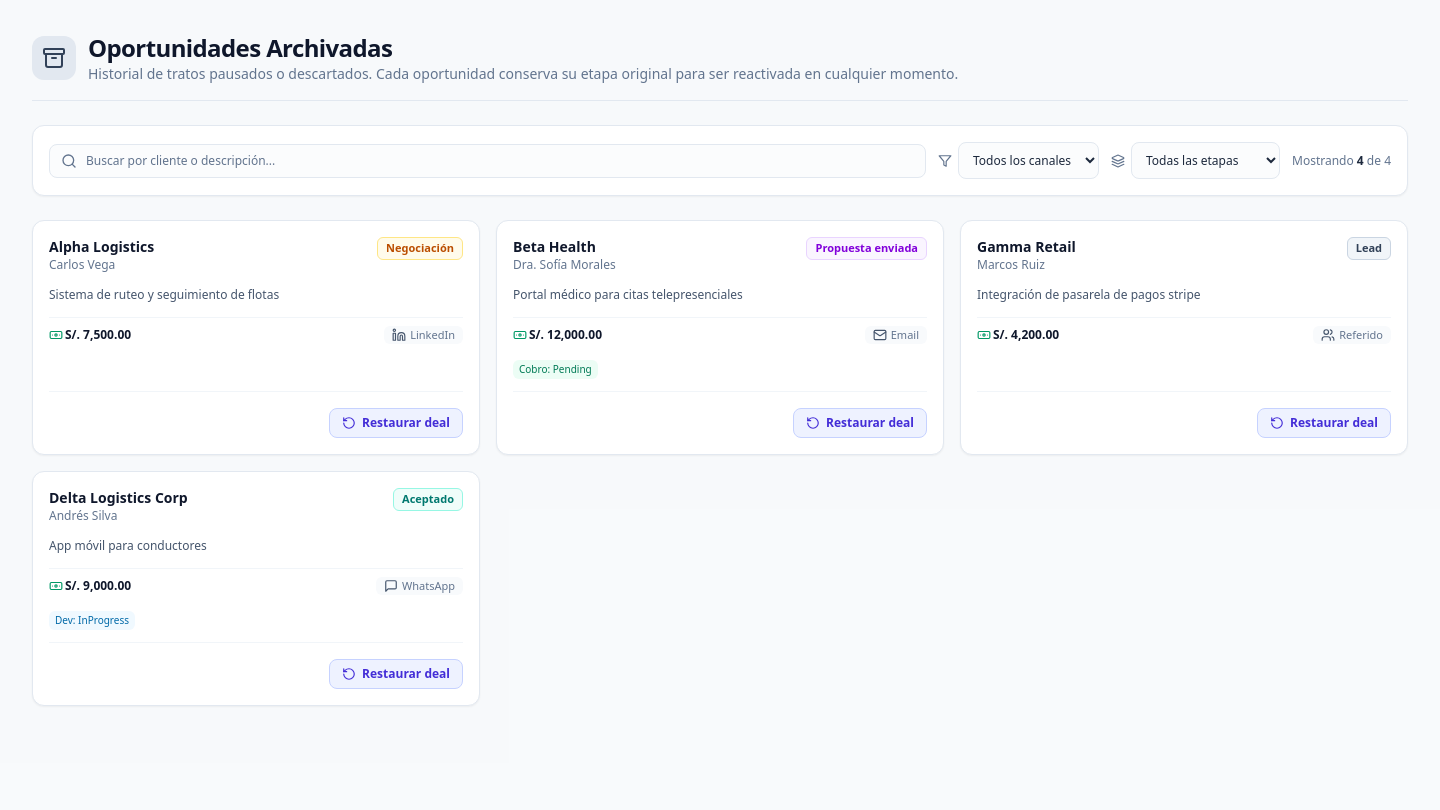
Test case: Vista de Oportunidades Archivadas (/archive) › 3. Filtros y Búsqueda › permite limpiar todos los filtros aplicados
The image size is (1440, 810).
Type "Beta" into the field with placeholder "Buscar por cliente o descripción...".
click(488, 160); type("Beta")  # box [49,144,926,178]
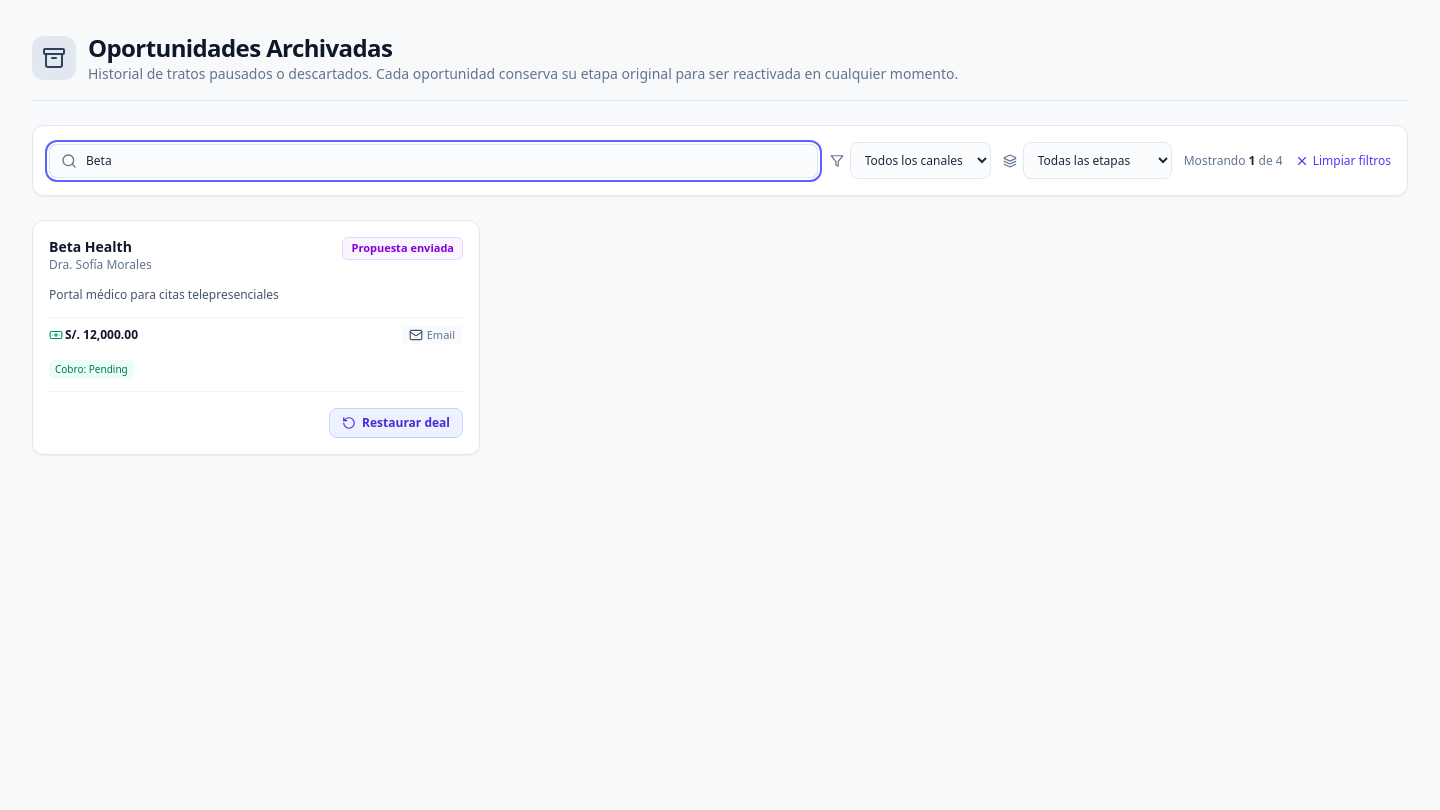
Expected: the heading "Beta Health" is shown, [49,237,132,256]
Expected: the heading "Alpha Logistics" is gone
Click the button "Limpiar filtros".
click(1343, 160)  # box [1295,152,1391,168]
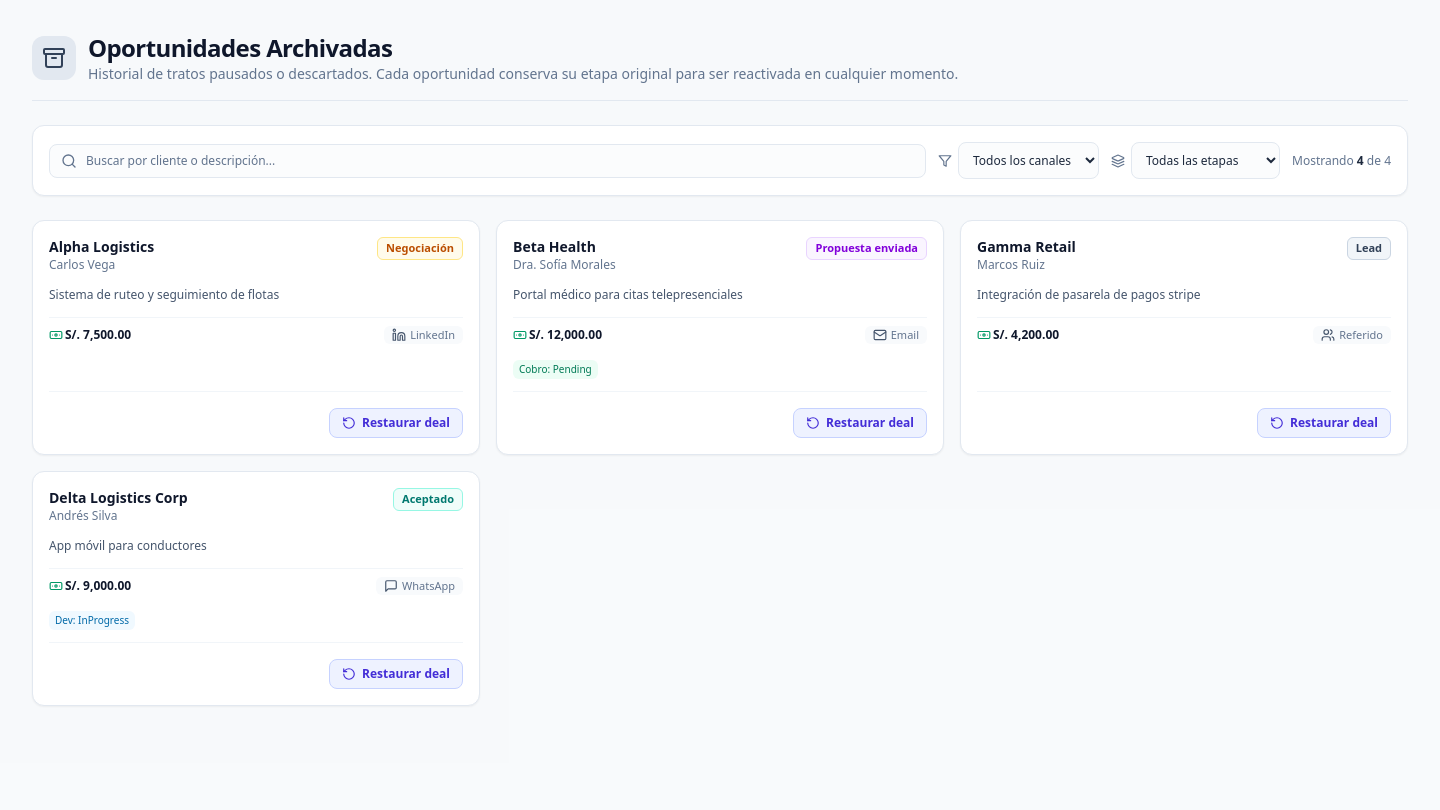
Expected: the heading "Beta Health" is shown, [513,237,596,256]
Expected: the heading "Alpha Logistics" is shown, [49,237,154,256]
Expected: the field with placeholder "Buscar por cliente o descripción..." is empty, [49,144,926,178]
